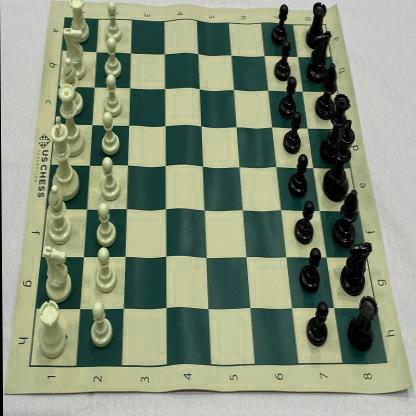black-bishop: (332, 188, 359, 247), (314, 64, 338, 119)
black-king: (323, 119, 356, 202)
black-knight: (340, 240, 372, 295), (306, 31, 332, 82)
black-pawn: (305, 301, 329, 347), (299, 247, 322, 294), (294, 198, 315, 246), (287, 154, 309, 196), (283, 111, 303, 155), (278, 75, 298, 118), (274, 38, 292, 81), (270, 3, 288, 45)
black-queen: (320, 94, 350, 162)
black-rook: (348, 296, 379, 353), (306, 2, 328, 48)
white-bishop: (45, 183, 71, 244), (60, 58, 83, 116)
white-king: (48, 115, 80, 200)
white-knight: (41, 245, 72, 302), (63, 26, 87, 79)
white-pawn: (90, 247, 118, 294), (88, 302, 113, 350), (93, 203, 117, 247), (98, 112, 122, 156), (98, 157, 121, 202), (103, 76, 124, 118), (103, 1, 123, 44), (103, 38, 124, 78)
white-queen: (56, 82, 84, 157)
white-rook: (36, 296, 66, 360), (68, 0, 90, 43)
